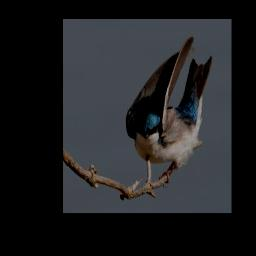Swallow: (125, 34, 213, 188)
